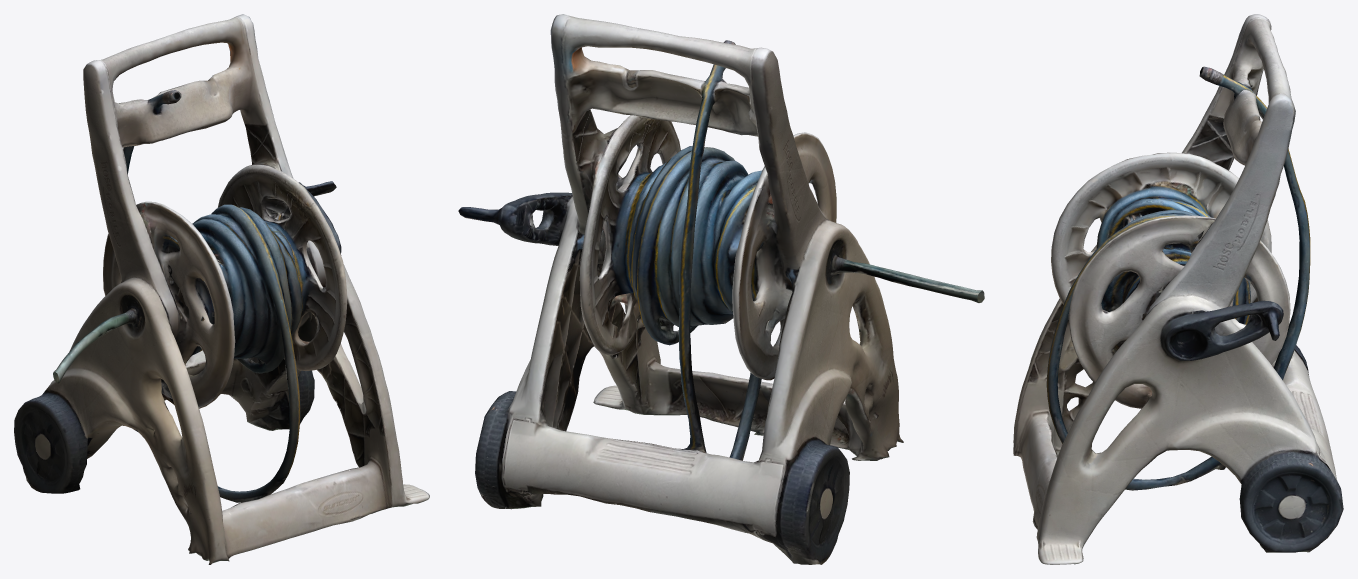
Rendered from hose.glb.
The picture shows the model from 3 angles, left to right: view 1: azimuth 30°, elevation 25°; view 2: azimuth 150°, elevation 25°; view 3: azimuth 270°, elevation 25°; orthographic projection. The views are drawn at different scales.
Visible parts, largest first — view 1: HoseHolder; view 2: HoseHolder; view 3: HoseHolder.
Part boxes in pixels (x1,y1,x2,y2): HoseHolder: [14, 14, 429, 564]; HoseHolder: [458, 14, 984, 564]; HoseHolder: [1013, 14, 1343, 564].
Bounding box in the file's own units: 4.44 × 4.91 × 3.39.
Materials: 1 (1 with a texture image).
